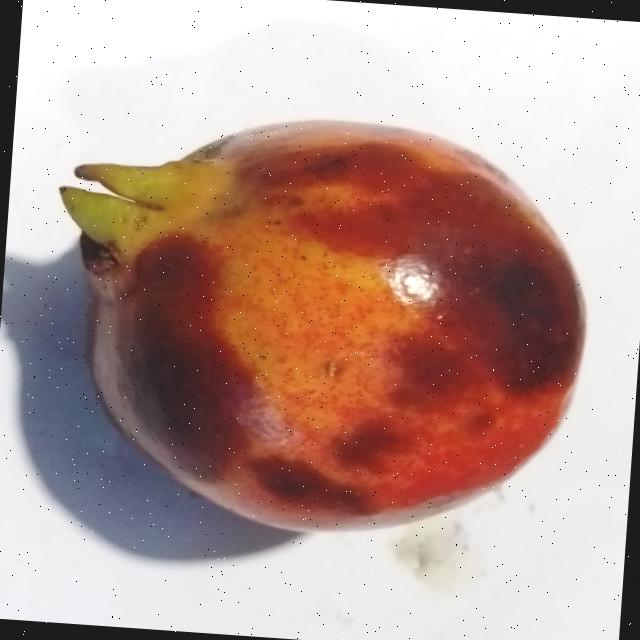Rotten: (28, 94, 606, 556)
